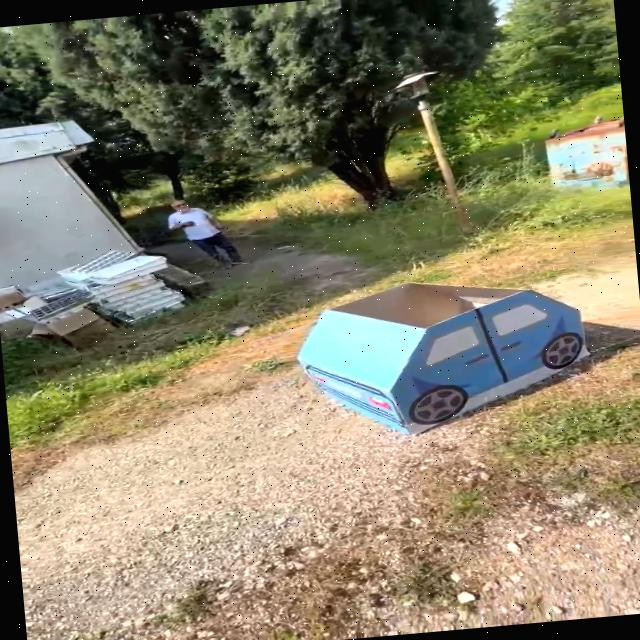blue_car: (267, 252, 618, 455)
